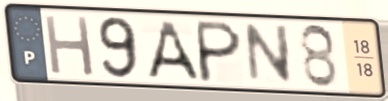8: (297, 22, 340, 91)
9: (97, 14, 141, 81)
A: (144, 18, 202, 83)
H: (42, 12, 97, 79)
N: (242, 22, 295, 86)
P: (196, 18, 245, 85)
